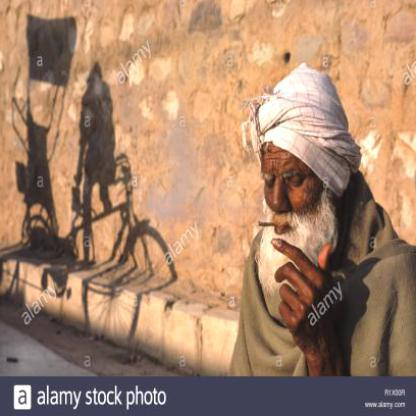cigarette: (257, 220, 278, 228)
person: (233, 70, 415, 382)
